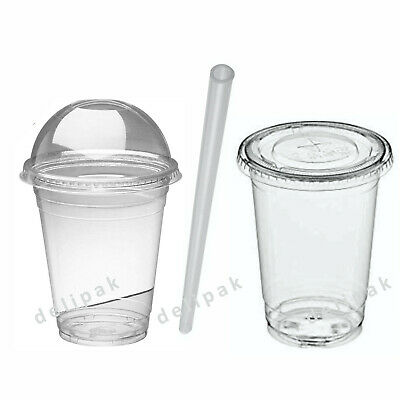plastic_bottle: (16, 94, 185, 355), (229, 114, 400, 356)
